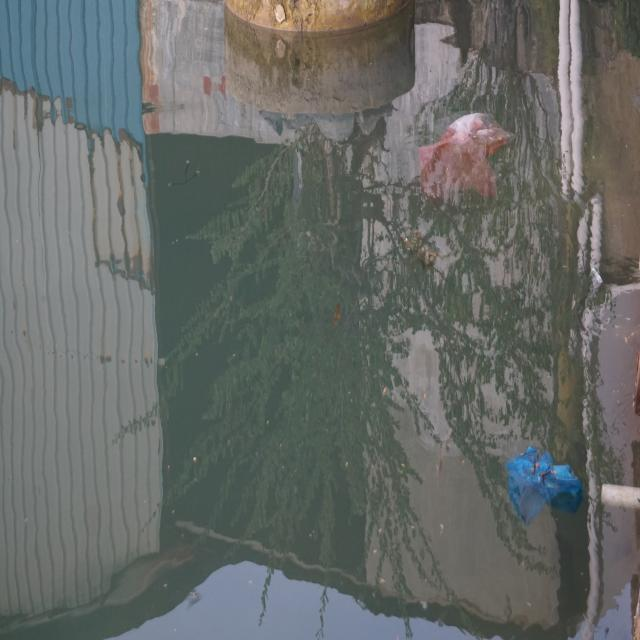Kantong Plastik: (419, 99, 518, 221), (504, 438, 584, 535)
